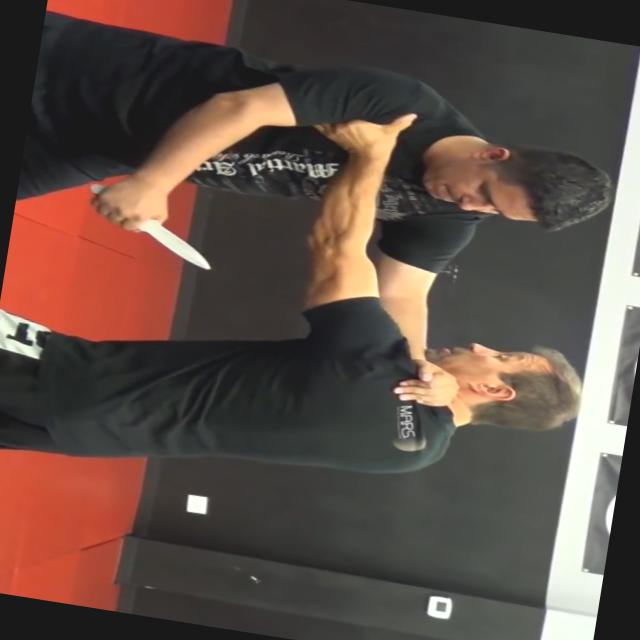knife: (74, 176, 230, 274)
